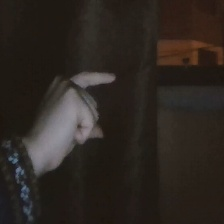G: (29, 63, 133, 174)
